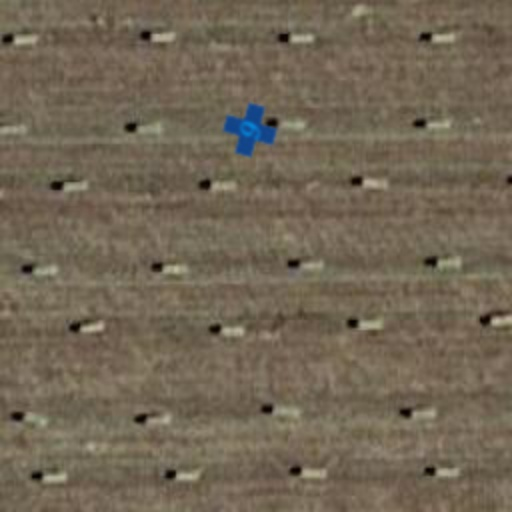cross: (216, 96, 284, 164)
